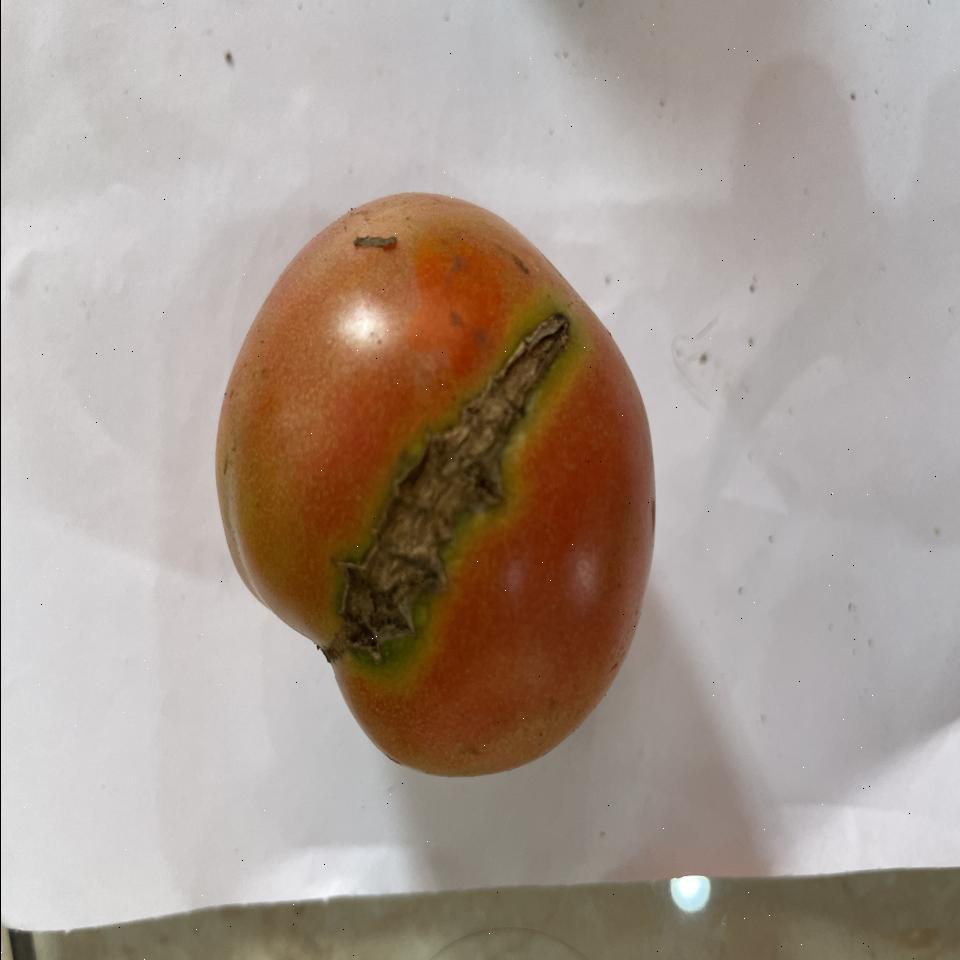Cracking: (321, 278, 561, 681)
